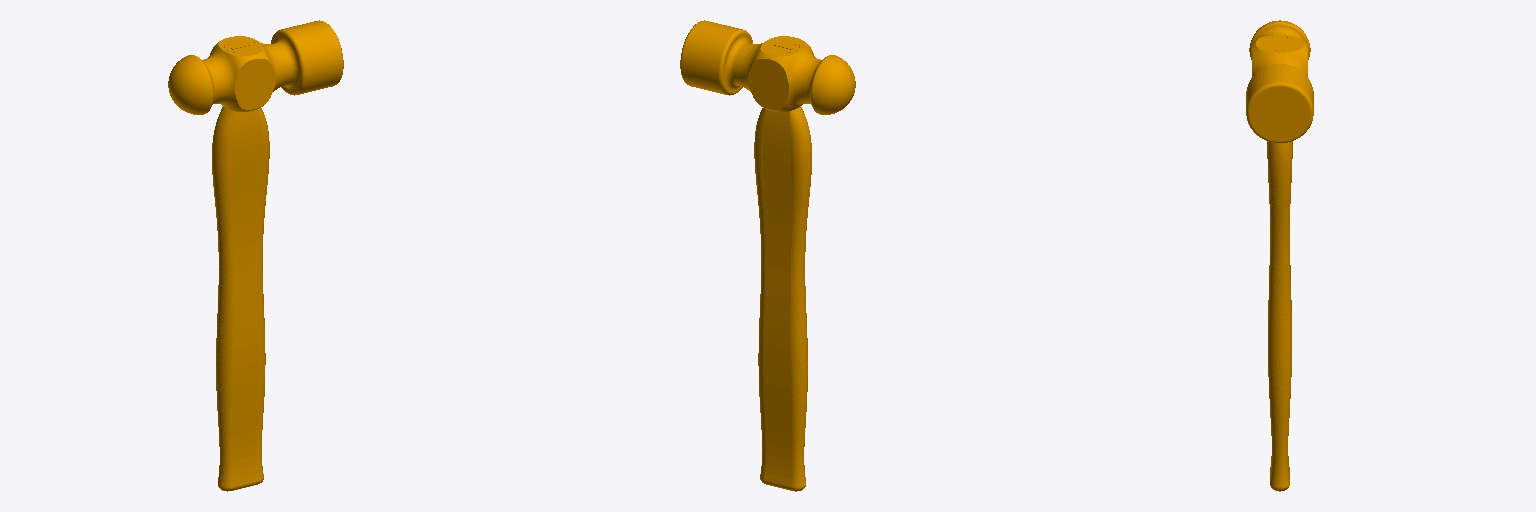
robot.urdf — hammer_2_L0.65_T0.65:
<?xml version="1.0" encoding="utf-8"?>
<robot name="hammer_2_L0.65_T0.65">
  <link name="hammer_2_L0.65_T0.65Link">
    <contact>
      <lateral_friction value="1"/>
    </contact>
    <inertial>
      <origin rpy="0 0 0" xyz="0 0 0"/>
      <mass value="0.0"/>
      <inertia ixx="0" ixy="0" ixz="0" iyy="0" iyz="0" izz="0"/>
    </inertial>
    <visual>
      <origin rpy="0 0 0" xyz="0 0 0"/>
      <geometry>
        <mesh filename="generated_stl/hammer/hammer_2/hammer_2_L0.65_T0.65/hammer_2_L0.65_T0.65.stl" scale="0.01 0.01 0.01"/>
      </geometry>
    </visual>
    <collision>
      <origin rpy="0 0 0" xyz="0 0 0"/>
      <geometry>
        <mesh filename="generated_stl/hammer/hammer_2/hammer_2_L0.65_T0.65/hammer_2_L0.65_T0.65.stl" scale="0.01 0.01 0.01"/>
      </geometry>
    </collision>
  </link>
</robot>

--- Facts derived from the render (not from the file) ---
3 views of the same robot in one strip: view 1: azimuth 30°, elevation 25°; view 2: azimuth 150°, elevation 25°; view 3: azimuth 270°, elevation 25° (orthographic).
Robot: hammer_2_L0.65_T0.65 — 1 links, 0 joints (none); root link hammer_2_L0.65_T0.65Link; default pose: all joints at 0.
Visible links, largest first — view 1: hammer_2_L0.65_T0.65Link; view 2: hammer_2_L0.65_T0.65Link; view 3: hammer_2_L0.65_T0.65Link.
Link boxes in pixels (x1,y1,x2,y2): hammer_2_L0.65_T0.65Link: (168, 20, 343, 491); hammer_2_L0.65_T0.65Link: (680, 20, 855, 491); hammer_2_L0.65_T0.65Link: (1246, 20, 1313, 491).
Size in the robot's own frame: 0.065 by 0.0244 by 0.1766 metres.
1 mesh visuals loaded from 1 distinct referenced files (1 binary STL).